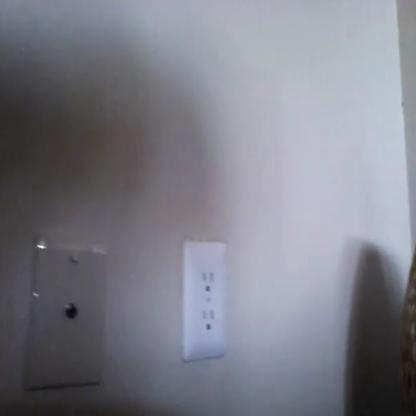OUTLET: (182, 239, 226, 363)
